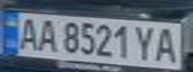1: (112, 21, 133, 60)
2: (93, 21, 115, 59)
5: (78, 20, 96, 56)
8: (57, 19, 81, 55)
A: (151, 25, 181, 64), (12, 15, 42, 51), (33, 17, 60, 53)
Y: (133, 24, 160, 62)
